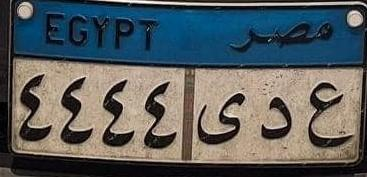4: (138, 79, 180, 152), (57, 72, 96, 146), (18, 72, 53, 142), (100, 79, 134, 151)
ain: (306, 74, 352, 152)
daal: (256, 93, 297, 149)
yaa: (197, 92, 248, 145)
